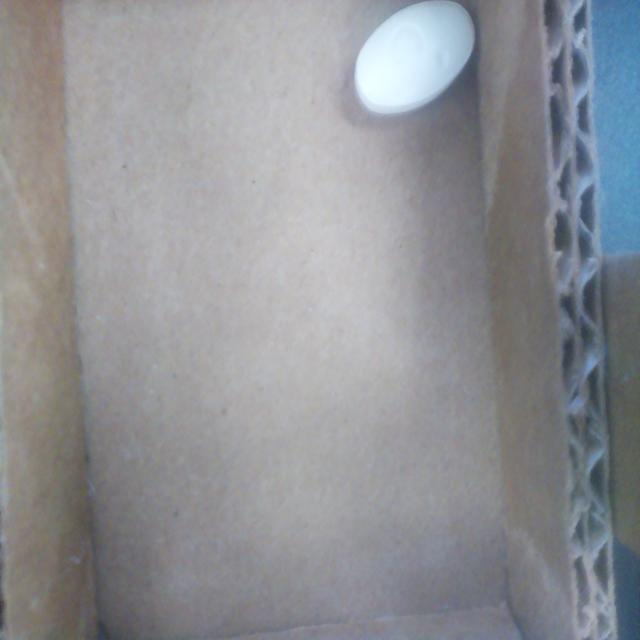pill: (354, 0, 475, 115)
